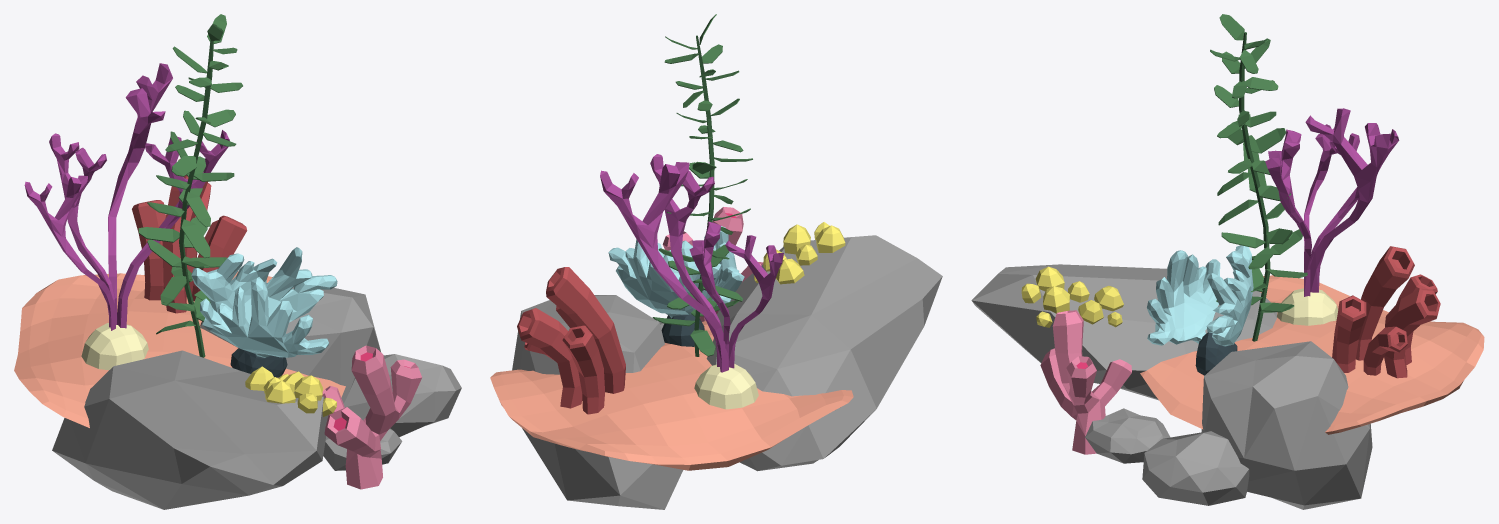
File: Coral_reef_002.glb
3 renders of one model, left to right at view 1: azimuth 30°, elevation 25°; view 2: azimuth 150°, elevation 25°; view 3: azimuth 270°, elevation 25°, orthographic. The views are drawn at different scales.
Visible parts, largest first — view 1: Coral_reef_002; view 2: Coral_reef_002; view 3: Coral_reef_002.
Boxes of the visible parts, <box> form: Coral_reef_002: <box>14,14,461,509</box>; Coral_reef_002: <box>490,14,942,509</box>; Coral_reef_002: <box>971,14,1484,509</box>.
Size of the model in its own units: 2.97 by 3.78 by 3.75.
1 material, 1 textured.
